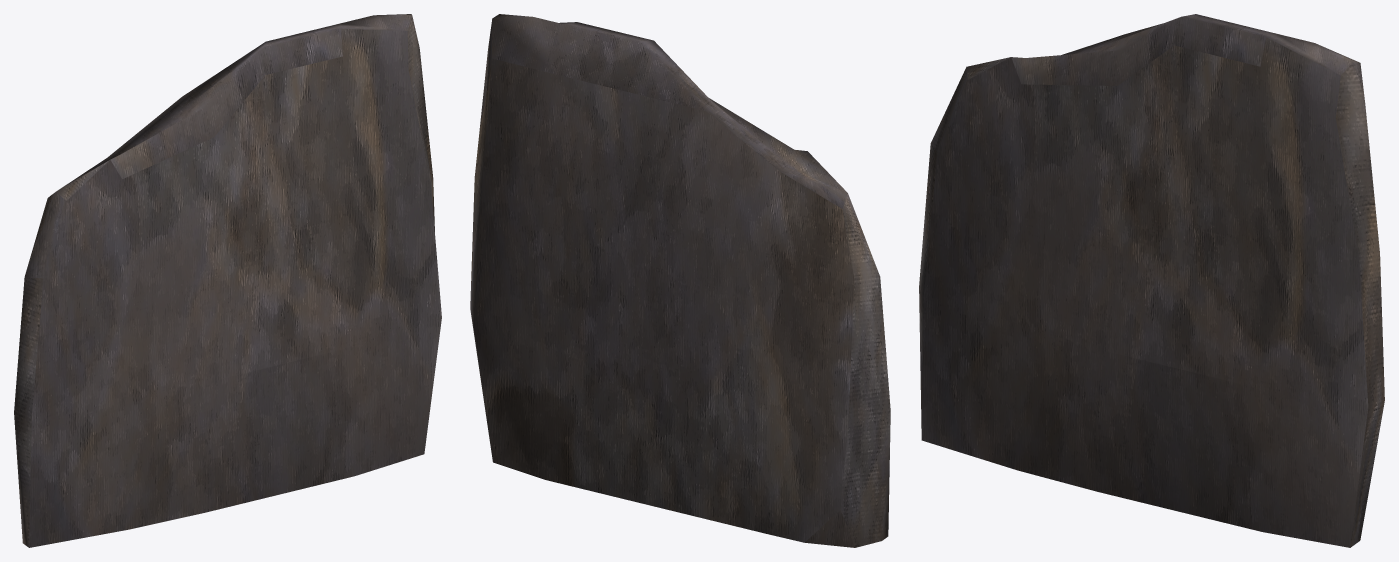
Rendered from 장애물_바위대 1.fbx.
3 renders of one model, left to right at view 1: azimuth 30°, elevation 25°; view 2: azimuth 150°, elevation 25°; view 3: azimuth 330°, elevation 25°, orthographic. The views are drawn at different scales.
Visible parts, largest first — view 1: 바위대 1; view 2: 바위대 1; view 3: 바위대 1.
Part boxes in pixels (bbox=[...]): 바위대 1: bbox=[14, 14, 441, 547]; 바위대 1: bbox=[470, 14, 890, 547]; 바위대 1: bbox=[919, 14, 1384, 547].
Bounding box in the file's own units: 299 × 298 × 47.92.
Materials: 1 (1 with a texture image).
